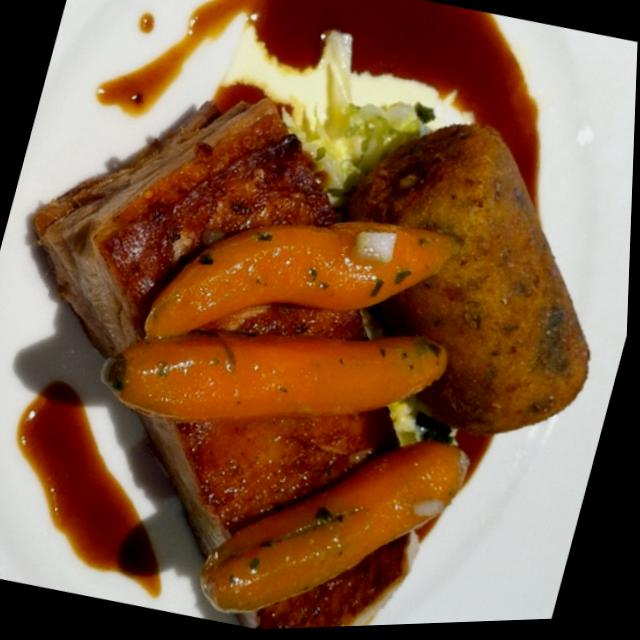牛肉菜式: (0, 7, 639, 640)
